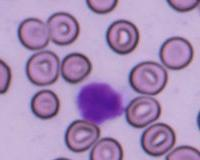L: (73, 77, 129, 127)
